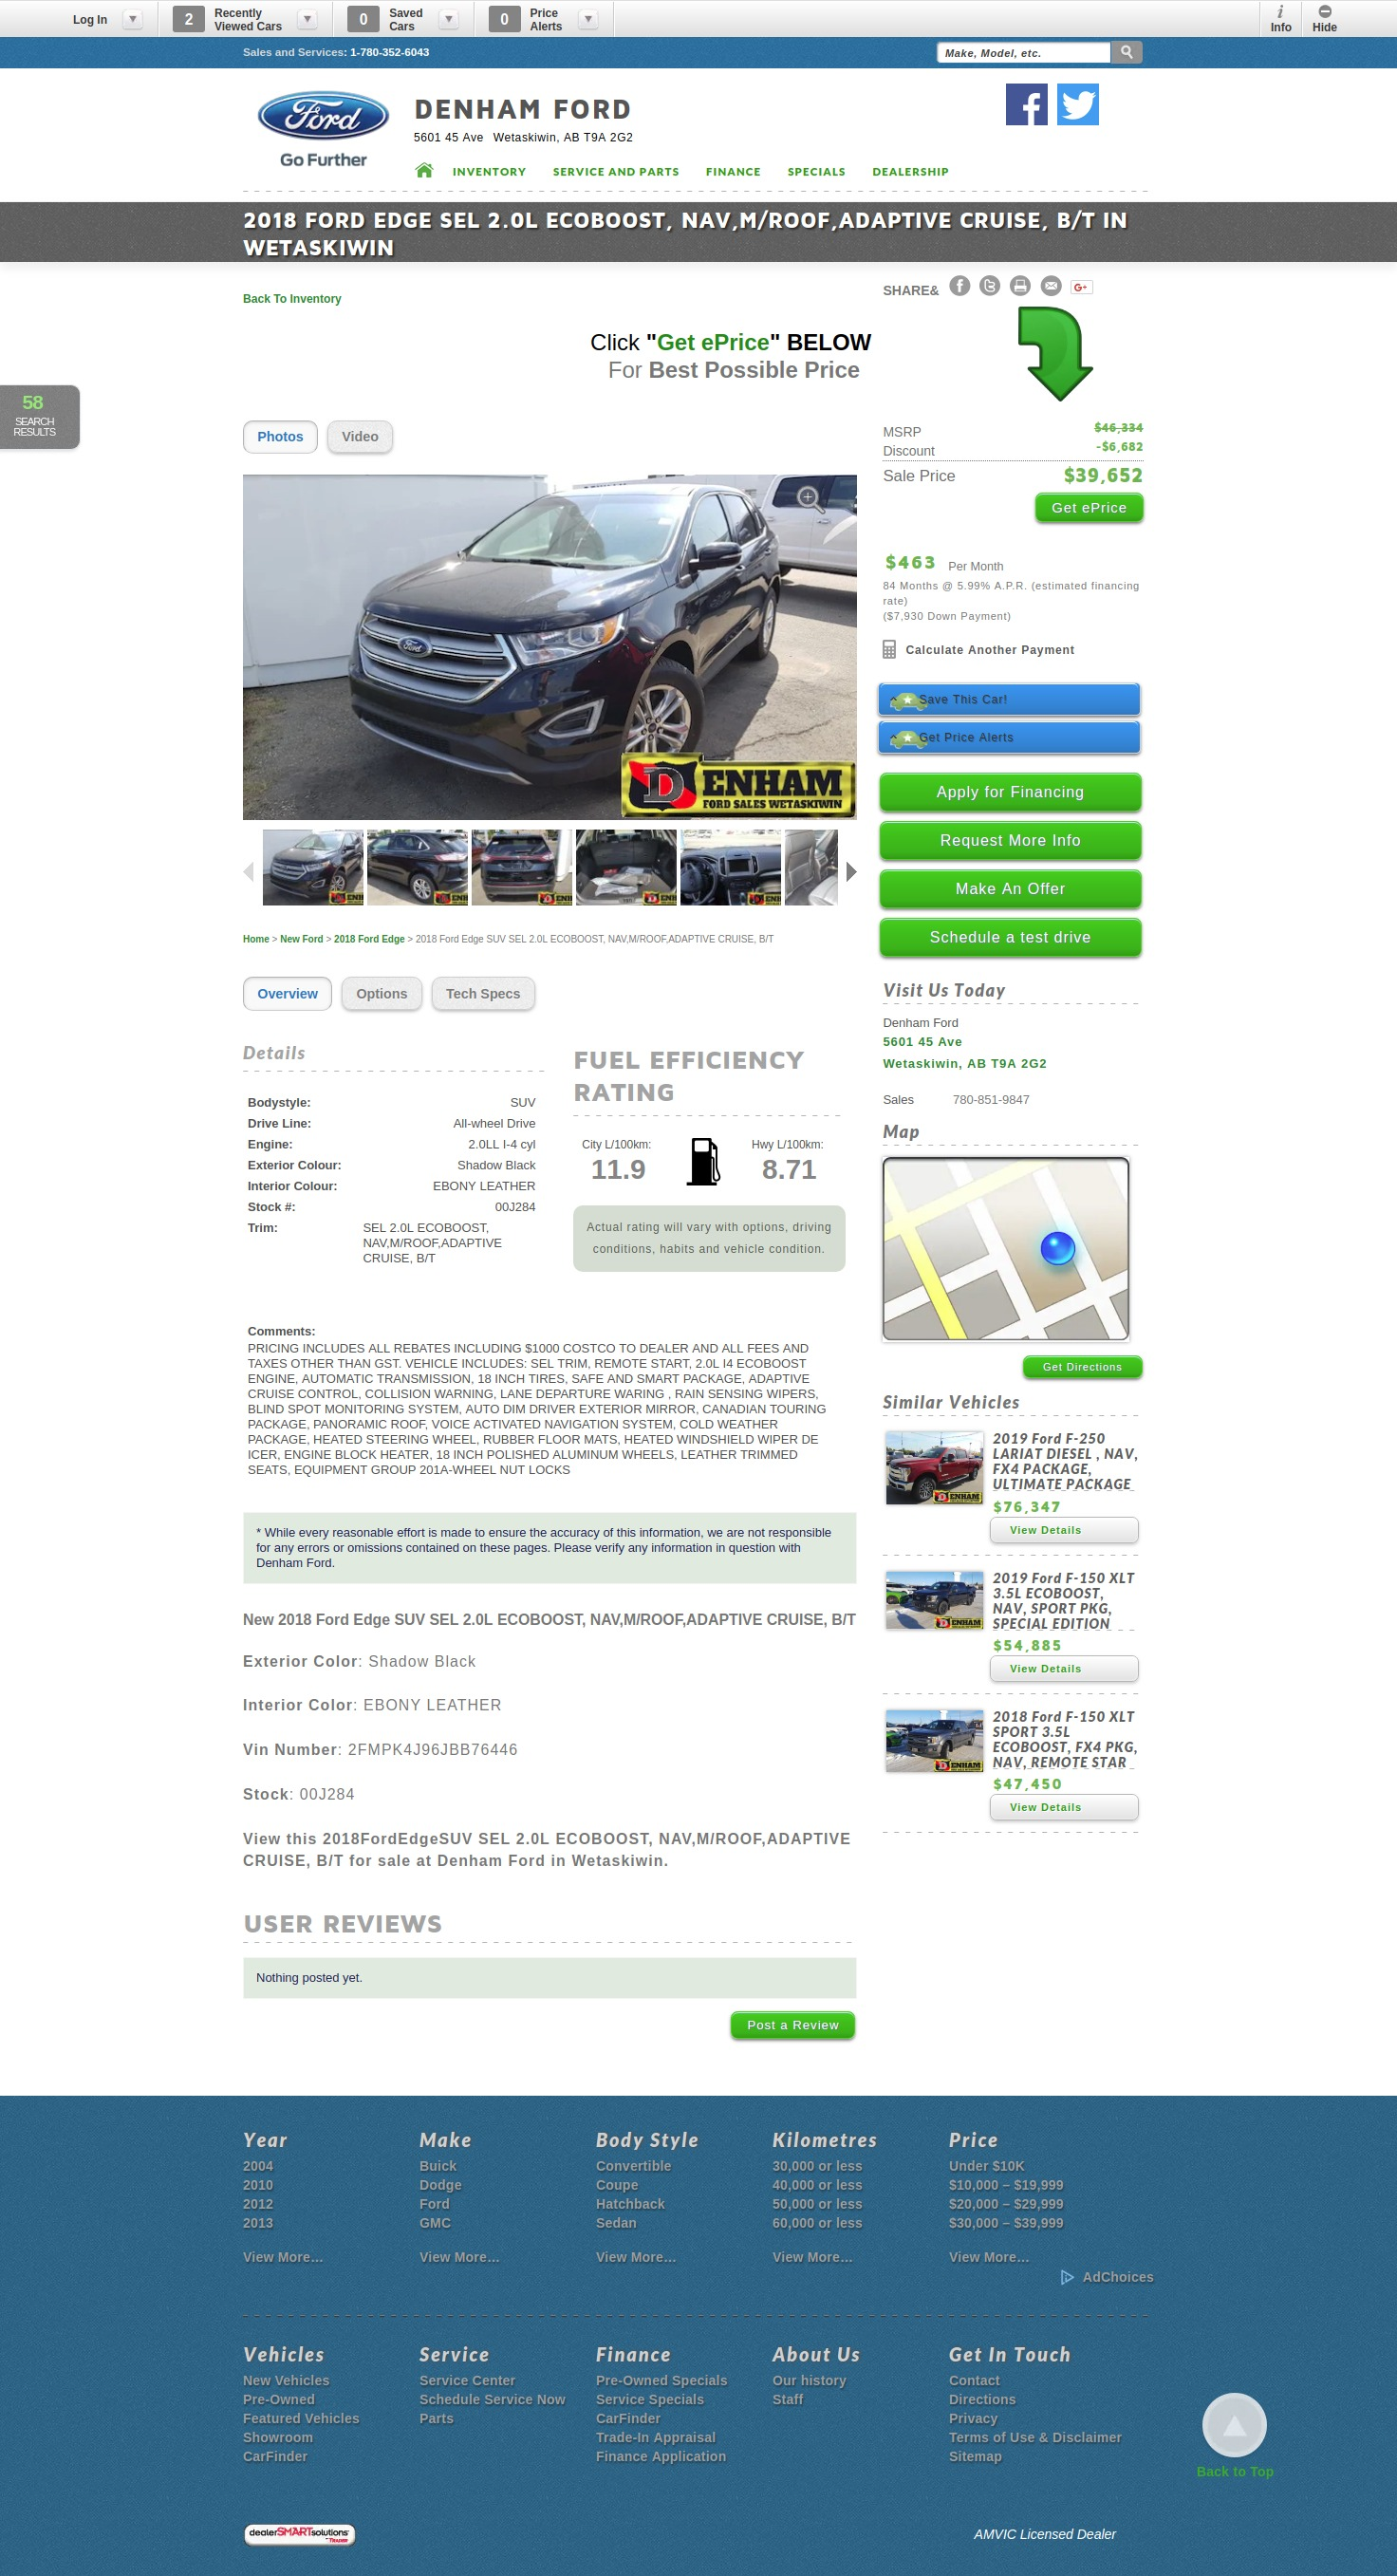car: (845, 862, 859, 884)
